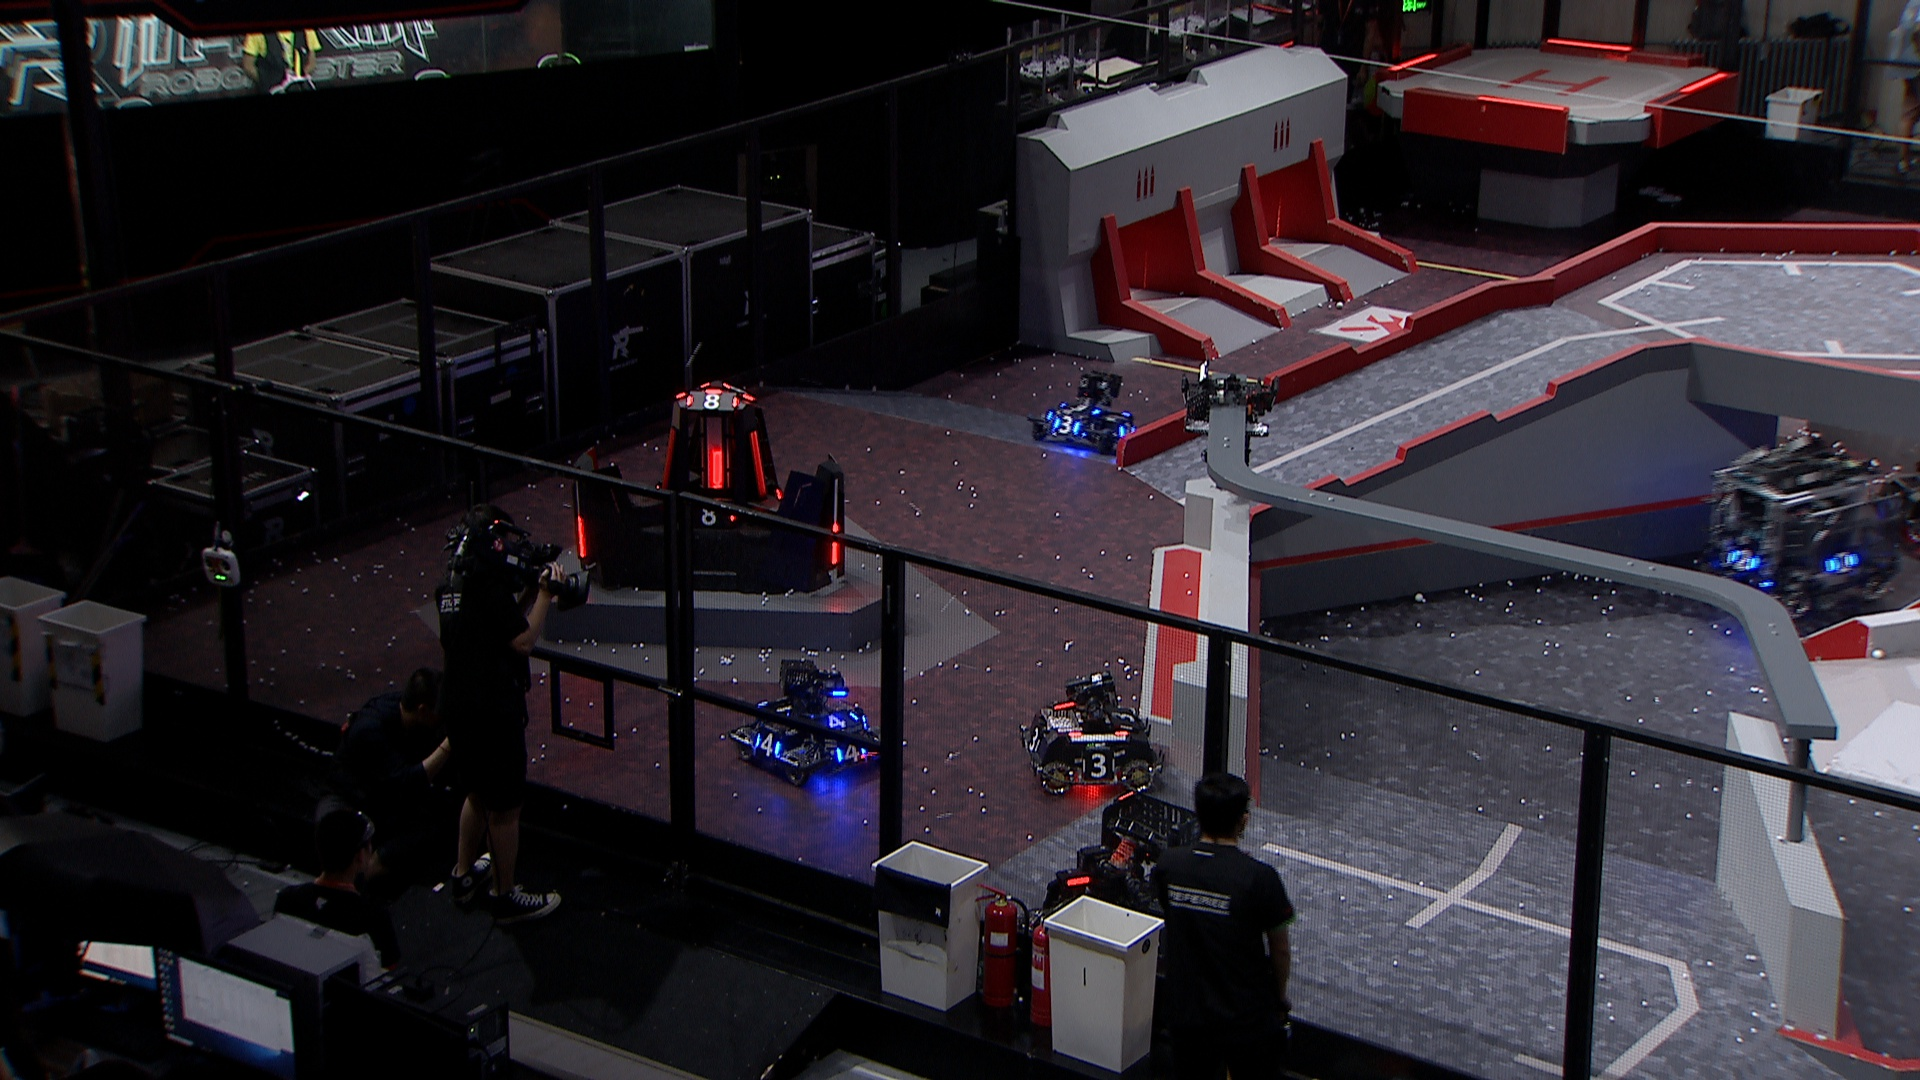armor: (659, 423, 678, 495), (749, 429, 769, 495), (688, 505, 736, 526), (708, 444, 728, 491), (820, 709, 858, 733), (684, 392, 733, 409), (1079, 752, 1112, 777), (833, 740, 870, 761), (1724, 550, 1762, 570), (754, 731, 781, 756), (575, 514, 589, 559), (829, 522, 843, 568), (1112, 704, 1134, 731), (1054, 415, 1083, 434), (1826, 556, 1859, 572), (1025, 723, 1040, 754), (1063, 404, 1097, 417), (1116, 419, 1139, 436)
base: (566, 375, 849, 589)
car: (1698, 431, 1904, 624), (1034, 789, 1205, 938), (728, 657, 887, 785), (1015, 665, 1167, 794), (1025, 365, 1145, 456), (1888, 462, 1920, 564)
watcher: (1178, 361, 1276, 485)
